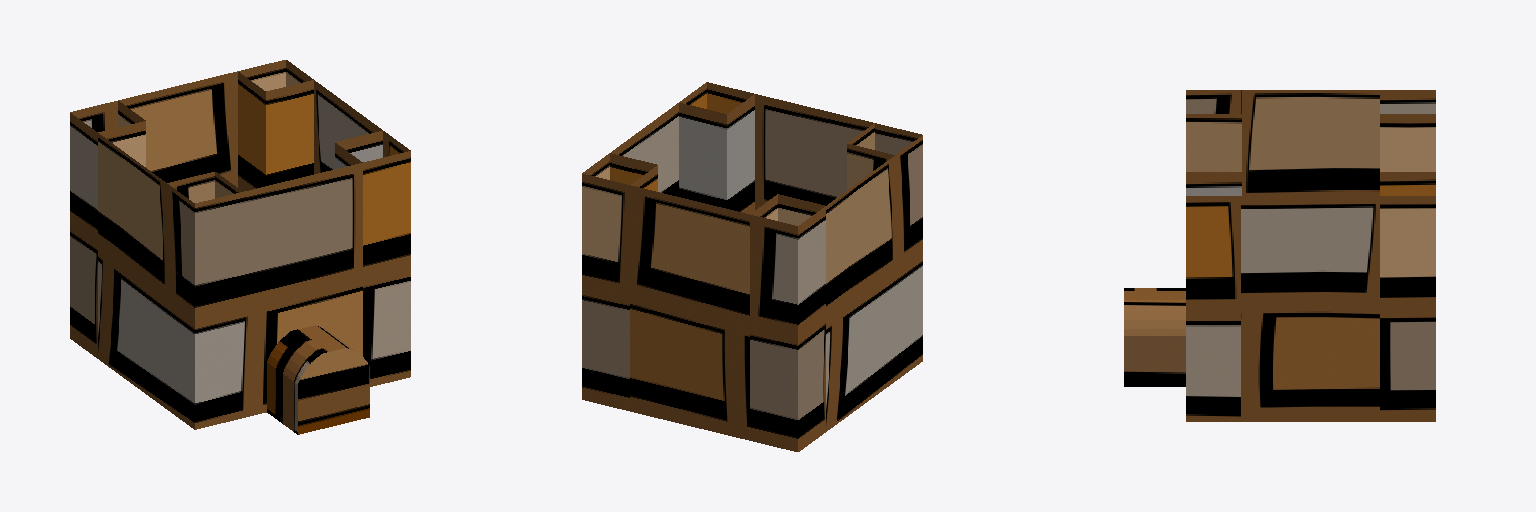
3 views of the same model, side by side, from view 1: azimuth 30°, elevation 25°; view 2: azimuth 150°, elevation 25°; view 3: azimuth 270°, elevation 25° (orthographic).
Visible parts, largest first — view 1: Grid_Grid.001; view 2: Grid_Grid.001; view 3: Grid_Grid.001.
Part boxes in pixels (bbox=[...]): Grid_Grid.001: bbox=[70, 60, 410, 434]; Grid_Grid.001: bbox=[582, 82, 922, 451]; Grid_Grid.001: bbox=[1124, 90, 1435, 421].
Size of the model in its own units: 40 by 40 by 49.89.
Materials: 1 (1 with a texture image).